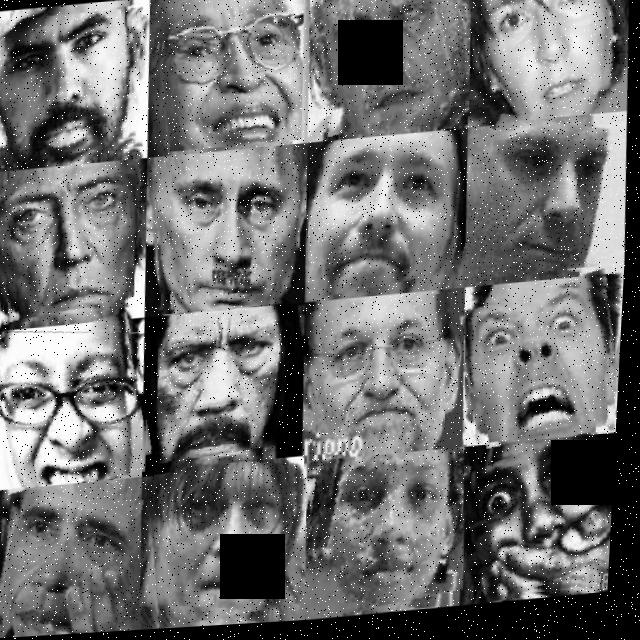anger: (463, 281, 627, 451), (0, 317, 157, 491), (0, 8, 147, 167), (156, 313, 305, 467), (0, 174, 142, 324)
fear: (463, 443, 621, 609)
happy: (150, 0, 309, 155)
neutral: (305, 452, 476, 624), (304, 135, 468, 305), (149, 153, 308, 318), (307, 298, 470, 458), (307, 0, 476, 137), (465, 0, 634, 130)
sad: (145, 458, 318, 632), (467, 118, 633, 286), (0, 482, 149, 639)
